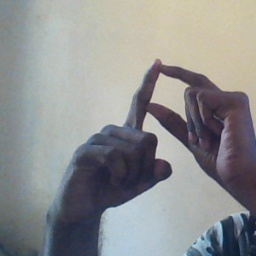D: (91, 51, 242, 180)
